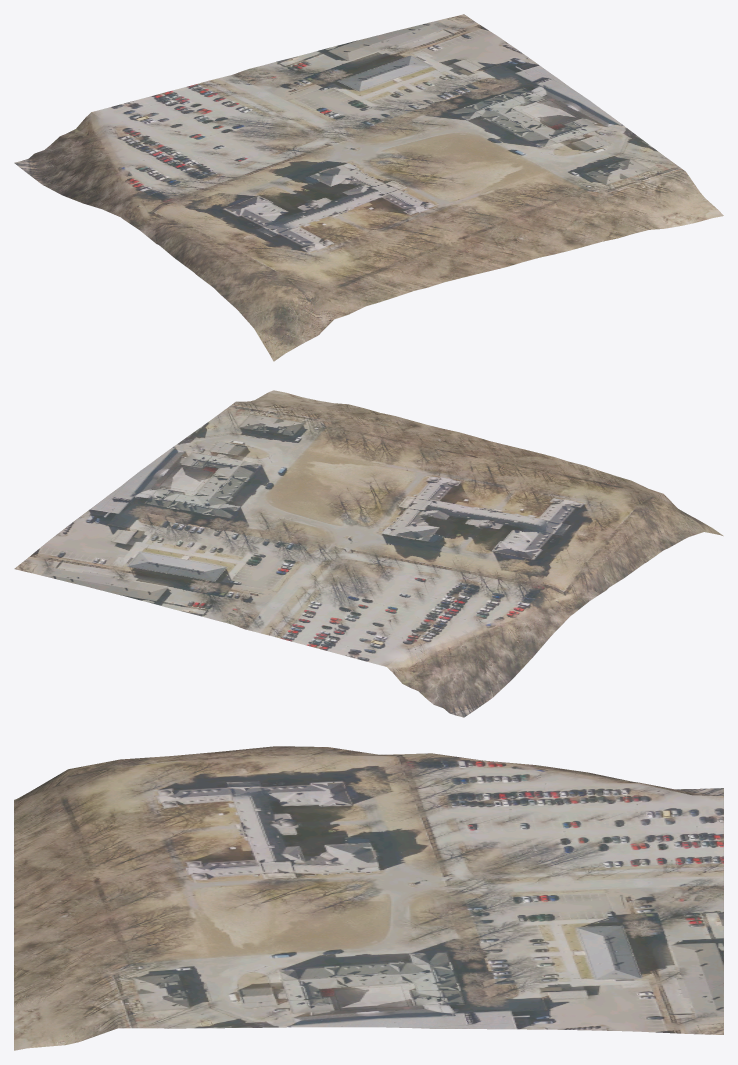
The model's file is CM_Terrain_24488410_6820408.fbx.
3 views of the same model, one above another, from view 1: azimuth 30°, elevation 25°; view 2: azimuth 150°, elevation 25°; view 3: azimuth 270°, elevation 25° (orthographic). The views are drawn at different scales.
Visible parts, largest first — view 1: CM_Terrain_24488410_6820408_LOD0; view 2: CM_Terrain_24488410_6820408_LOD0; view 3: CM_Terrain_24488410_6820408_LOD0.
Boxes of the visible parts, x1,y1,x2,y2 form: CM_Terrain_24488410_6820408_LOD0: [14, 14, 723, 361]; CM_Terrain_24488410_6820408_LOD0: [14, 390, 723, 717]; CM_Terrain_24488410_6820408_LOD0: [14, 746, 723, 1050].
Size of what is drawn, in the model's own units: 205 by 23.62 by 205.
